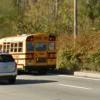Bus: (2, 32, 63, 80)
